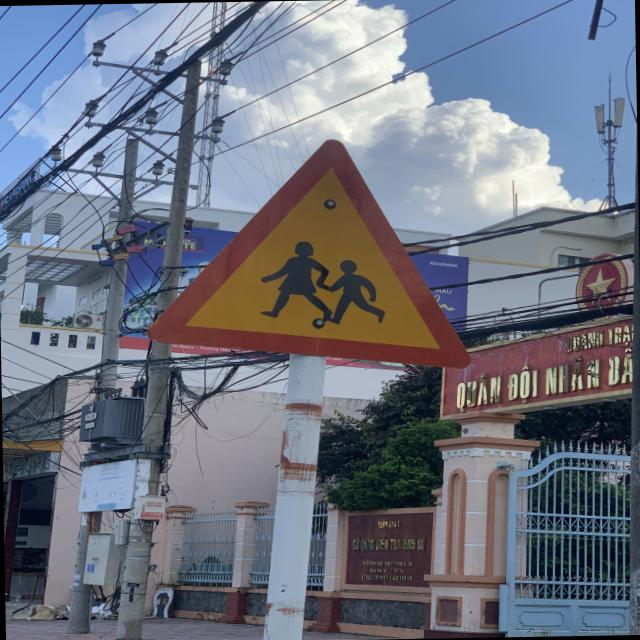Vong_Xuyen: (146, 138, 472, 372)
